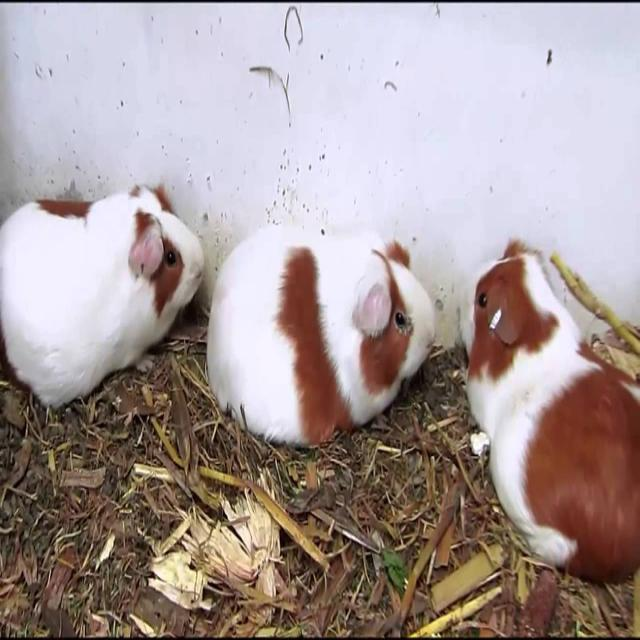guinea pig: (456, 224, 640, 599), (206, 213, 444, 457), (0, 175, 201, 414)
